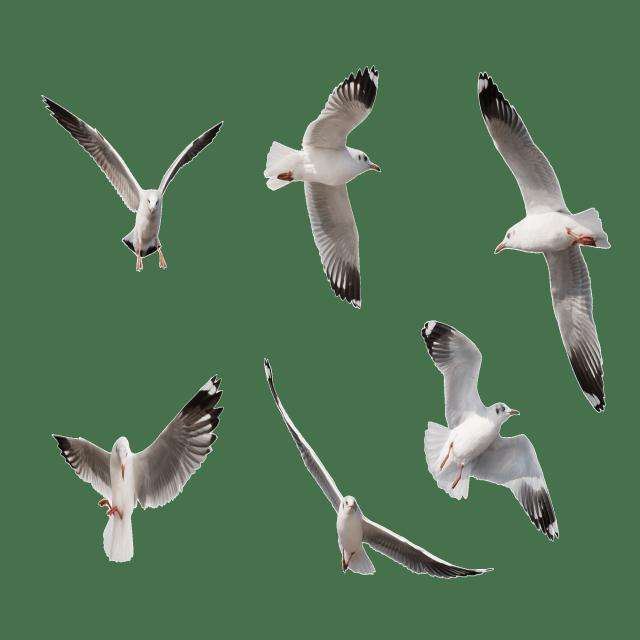bird: (254, 358, 491, 598), (476, 63, 625, 413), (44, 368, 235, 593), (39, 102, 232, 280), (258, 58, 389, 320), (420, 320, 526, 521)
